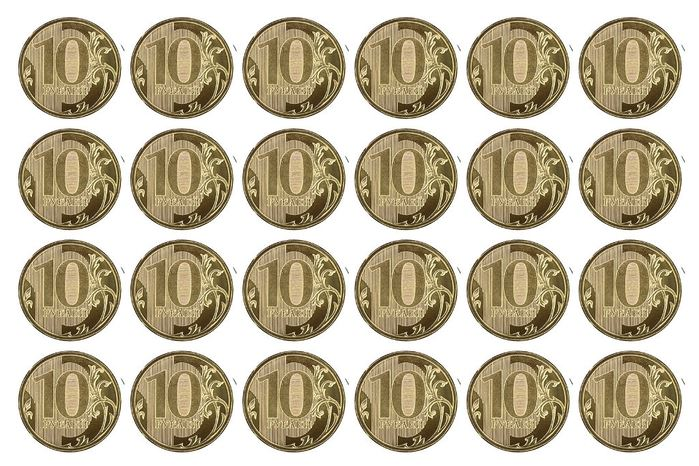coin: (17, 239, 124, 341), (15, 351, 122, 453), (241, 237, 345, 341), (242, 16, 346, 120), (354, 16, 458, 120), (465, 17, 569, 121), (578, 17, 682, 121), (17, 17, 123, 119), (15, 128, 121, 230), (128, 128, 234, 230), (241, 128, 347, 230), (354, 128, 460, 230), (465, 128, 571, 230), (580, 127, 686, 229), (129, 239, 235, 341), (352, 239, 458, 341), (466, 240, 572, 342), (577, 238, 683, 340), (129, 351, 235, 453), (241, 351, 347, 453), (352, 351, 458, 453), (465, 351, 571, 453), (577, 351, 683, 453), (131, 19, 234, 121)
